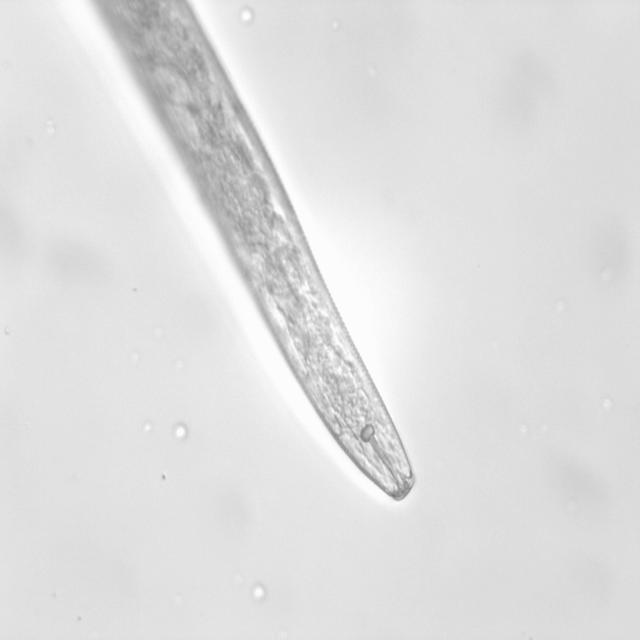Pratylenchus: (182, 117, 429, 513)
